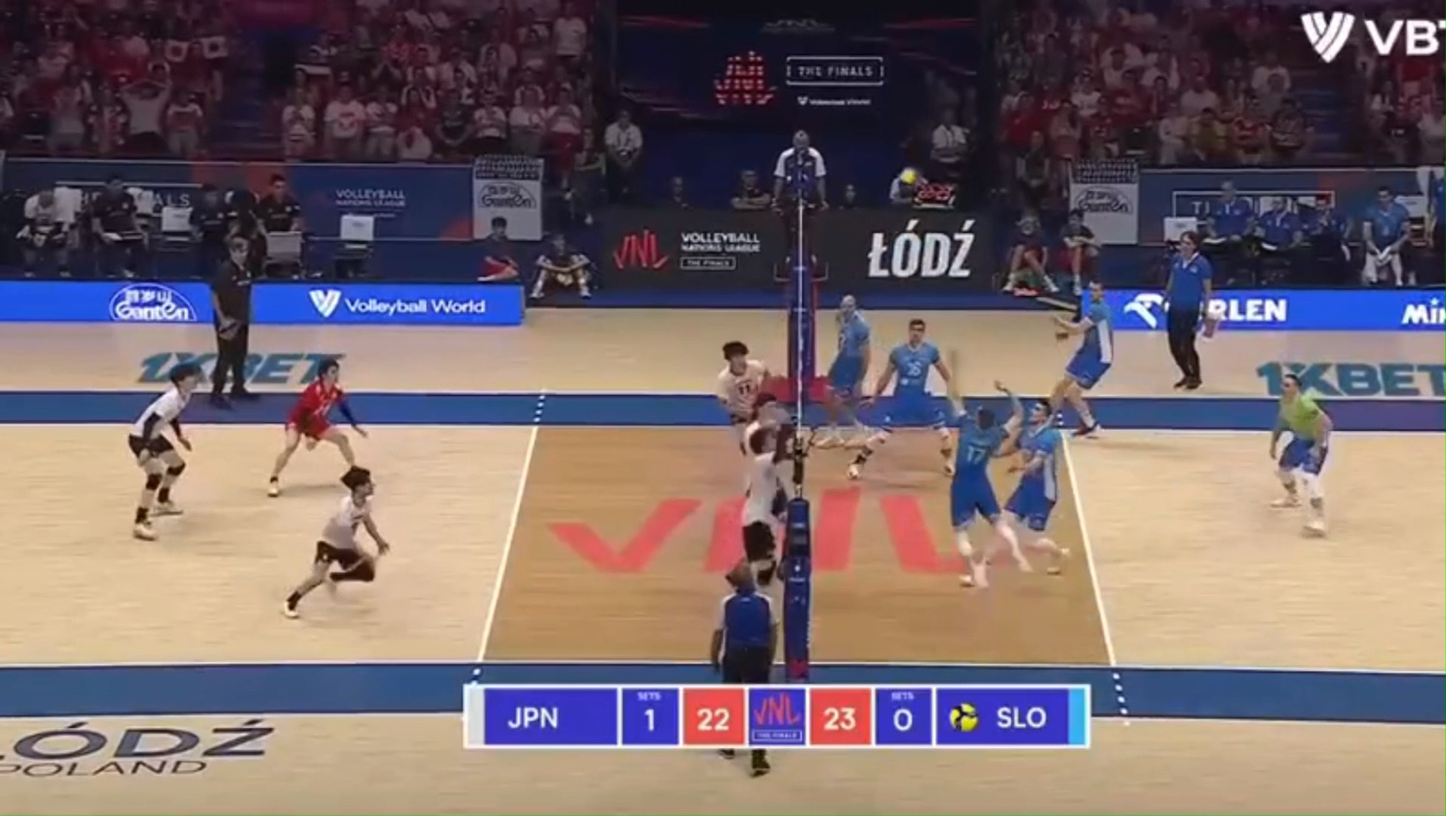ball: (900, 168, 917, 184)
player: (848, 319, 954, 479), (949, 382, 1027, 586), (1048, 280, 1114, 436), (1269, 374, 1333, 534), (1005, 400, 1066, 555), (817, 295, 871, 446)
player 1: (283, 465, 390, 617), (267, 357, 366, 497), (128, 363, 199, 539), (740, 422, 787, 586), (716, 341, 783, 434), (731, 391, 787, 455)
referee: (710, 561, 777, 684), (774, 130, 827, 283), (1166, 231, 1213, 389), (211, 234, 252, 404), (751, 748, 771, 775)
